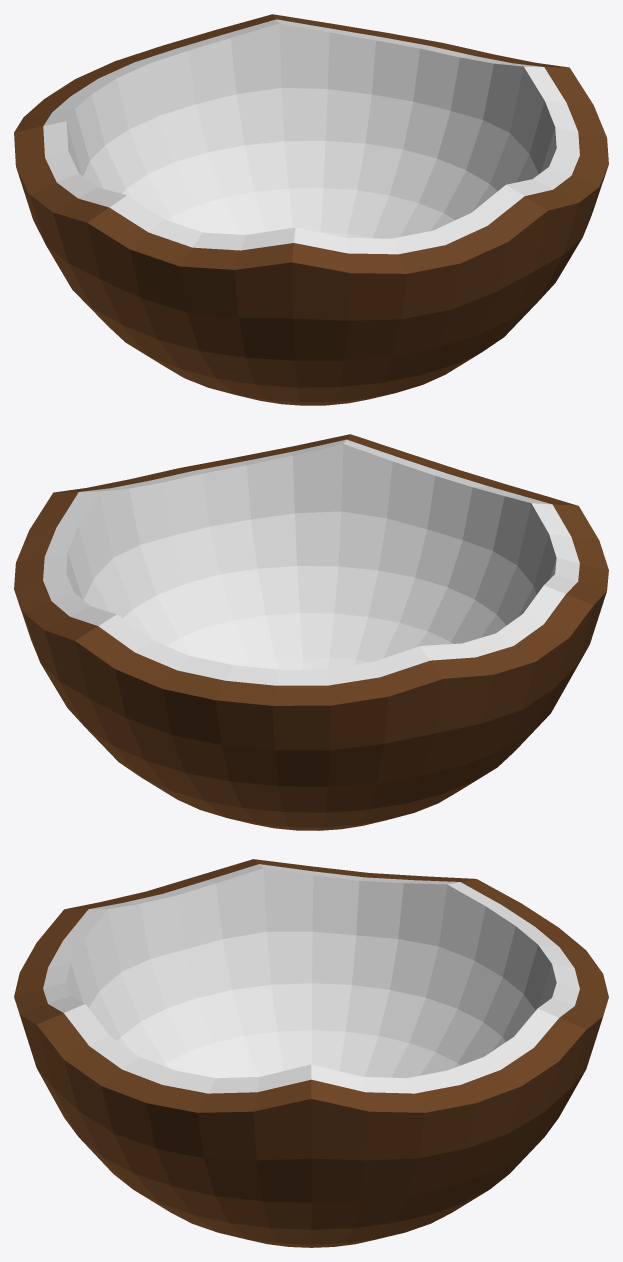
The model's file is kelapa.fbx.
The picture shows the model from 3 angles, top to bottom: view 1: azimuth 30°, elevation 25°; view 2: azimuth 150°, elevation 25°; view 3: azimuth 270°, elevation 25°; orthographic projection.
Visible parts, largest first — view 1: Sphere.001, Sphere; view 2: Sphere.001, Sphere; view 3: Sphere.001, Sphere.
Part boxes in pixels (x1,y1,x2,y2): Sphere.001: (43, 19, 579, 254); Sphere: (14, 14, 608, 405); Sphere.001: (43, 439, 579, 685); Sphere: (14, 434, 608, 830); Sphere.001: (43, 864, 579, 1093); Sphere: (14, 859, 608, 1247).
Size of the model in its own units: 376 by 180 by 376.
